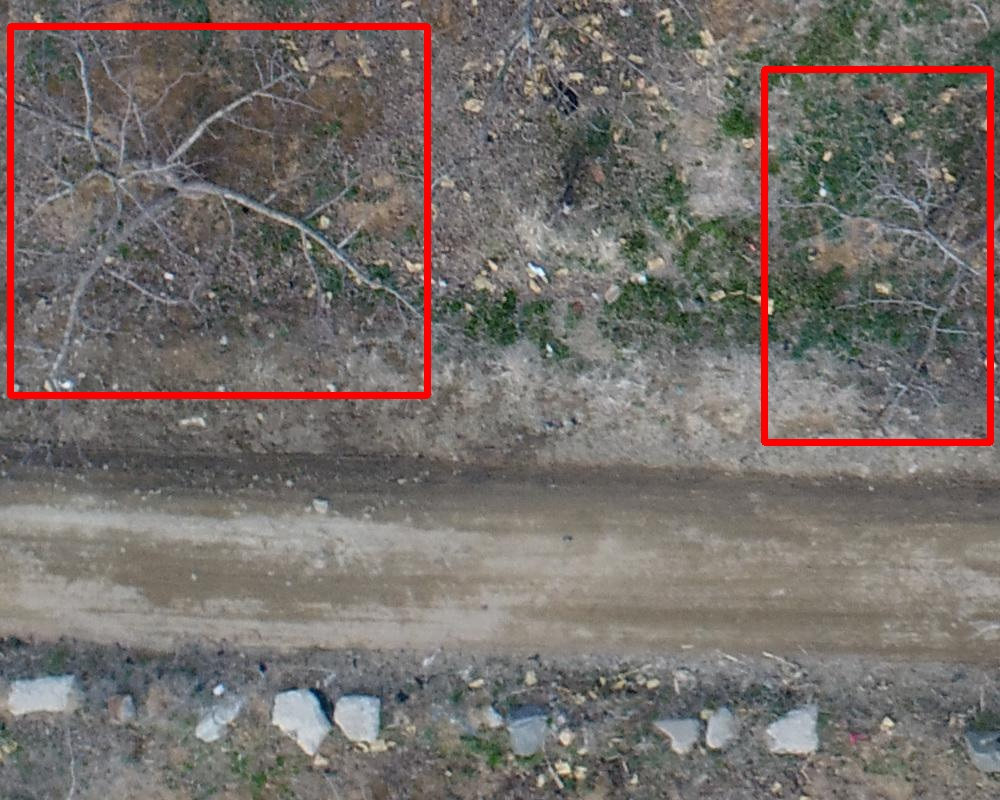apple: (10, 26, 427, 395), (764, 69, 990, 442)
